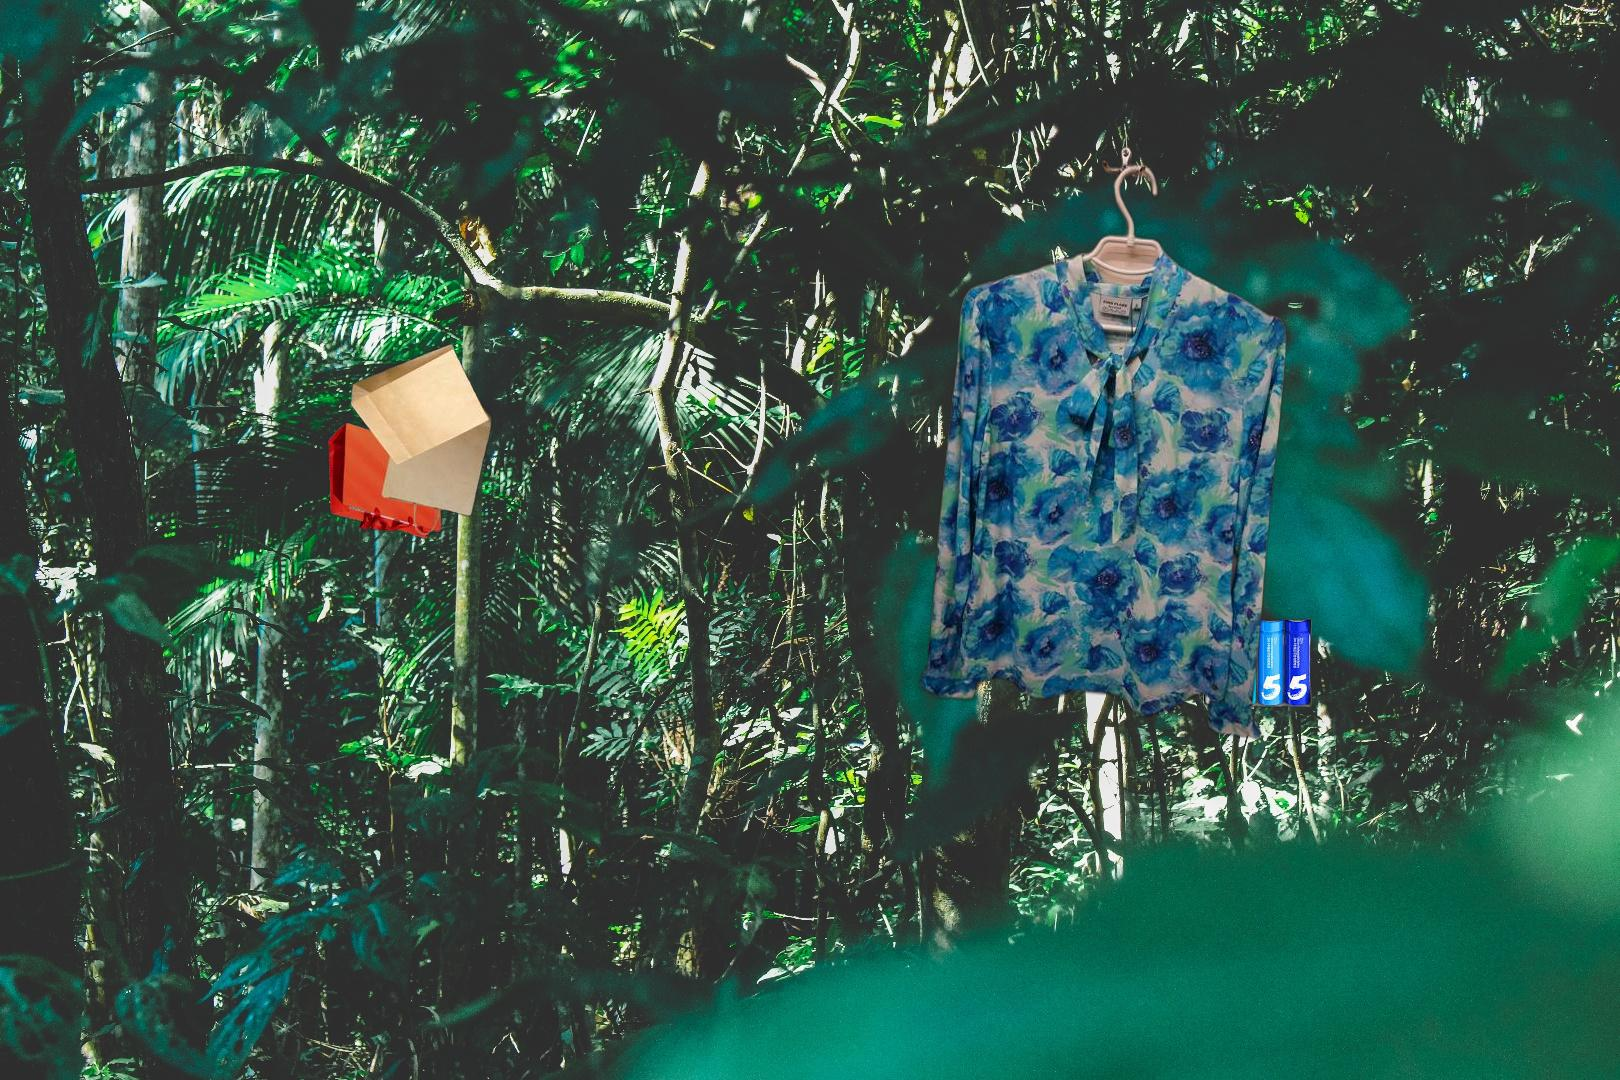battery: (1195, 607, 1315, 710)
clothes: (917, 141, 1290, 746)
paper-bag: (325, 341, 495, 542)
